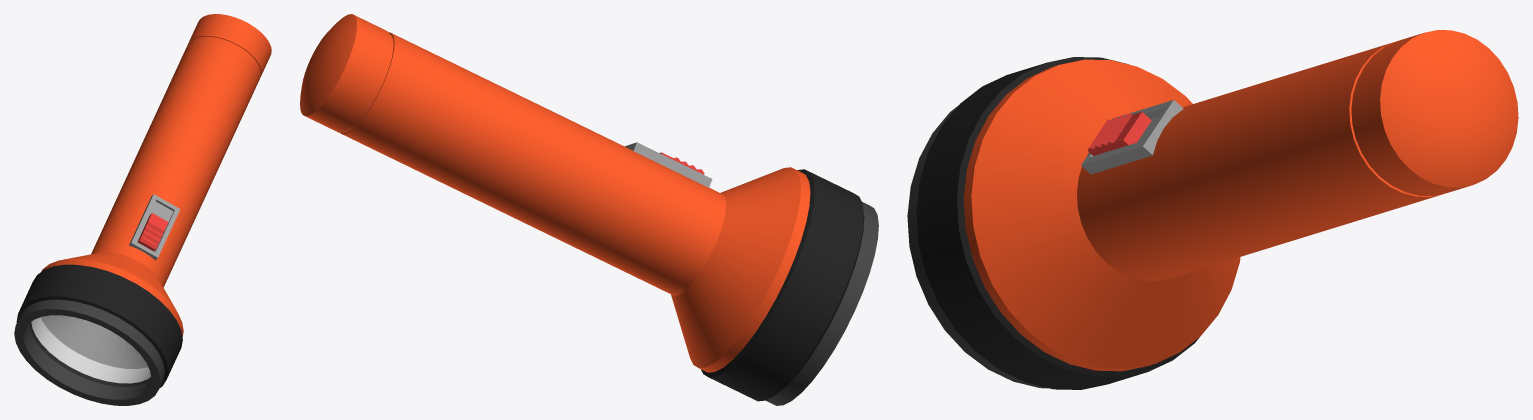
File: flashlight.glb
3 views of the same model, side by side, from view 1: azimuth 30°, elevation 25°; view 2: azimuth 150°, elevation 25°; view 3: azimuth 270°, elevation 25° (orthographic). The views are drawn at different scales.
Parts seen in each view (by area): view 1: Cylinder.499; view 2: Cylinder.499; view 3: Cylinder.499.
Boxes of the visible parts, box(x1,y1,x2,y2) form: Cylinder.499: box(14, 14, 271, 405); Cylinder.499: box(300, 14, 878, 405); Cylinder.499: box(907, 30, 1518, 389).
Bounding box in the file's own units: 2.37 × 1.95 × 1.95.
2 materials, 1 textured.
